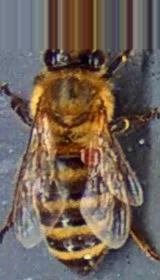varroa_mite: (70, 139, 106, 175)
